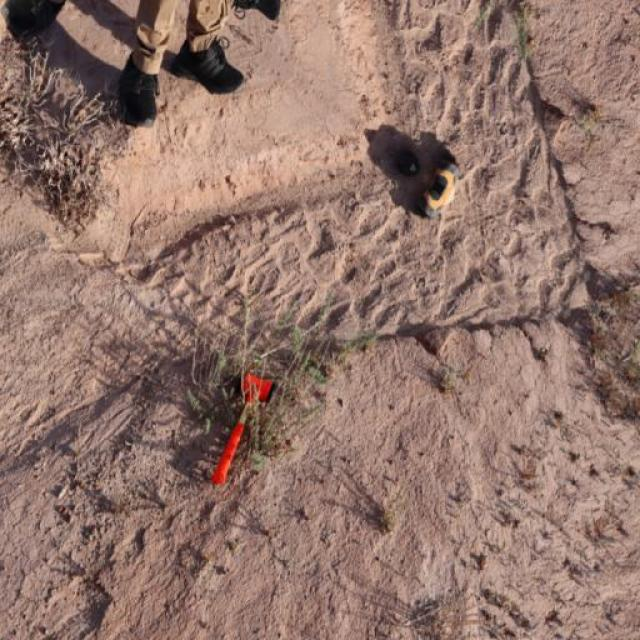mallet: (210, 372, 276, 486)
